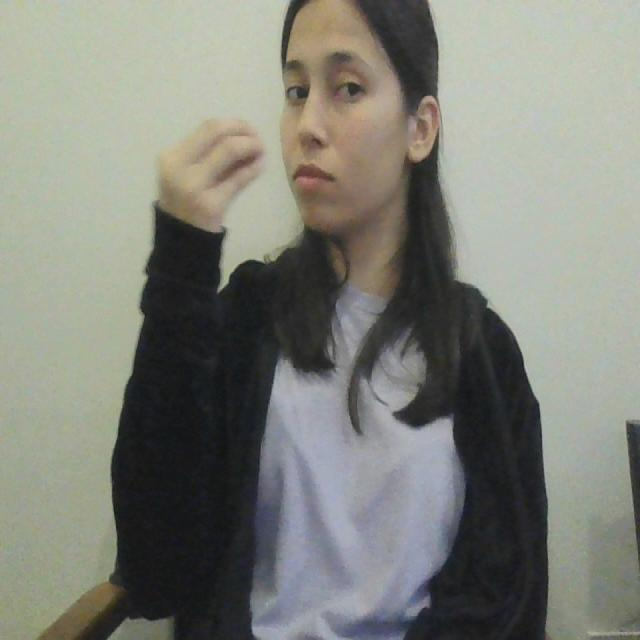Yemek: (158, 116, 336, 210)
